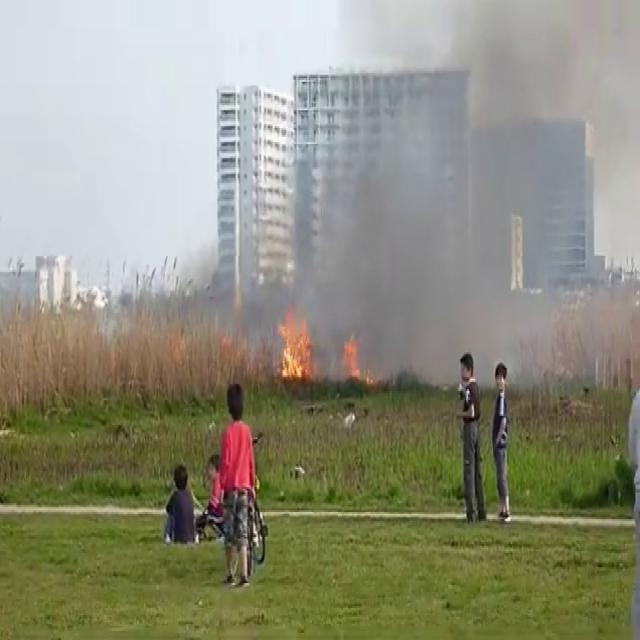Fire: (272, 300, 320, 388), (338, 326, 367, 390)
Smoke: (303, 0, 640, 388)
